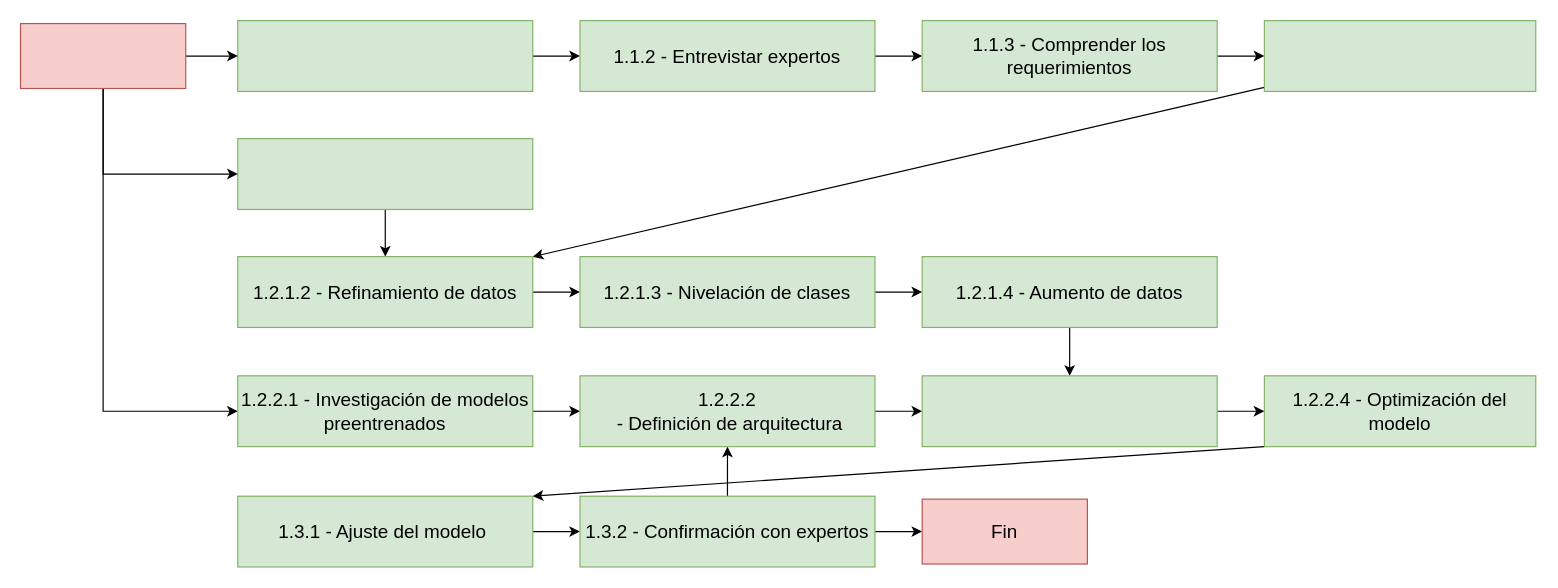
The diagram is 1558 pixels wide and 588 high, and some of its shapes have lost their labels. The shapes that lost their labels are listed below. From the top down, each one's centre as x and y in pixels, then its label:
(102,55): Inicio
(385,55): 1.1.1 - Lectura relacionada con la clasificación de imágenes médicas
(1399,55): 1.1.4 - Recopilación de datos
(385,173): 1.2.1.1 - Investigación de técnicas de procesamiento
(1069,411): 1.2.2.3 - Entrenamiento del modelo
